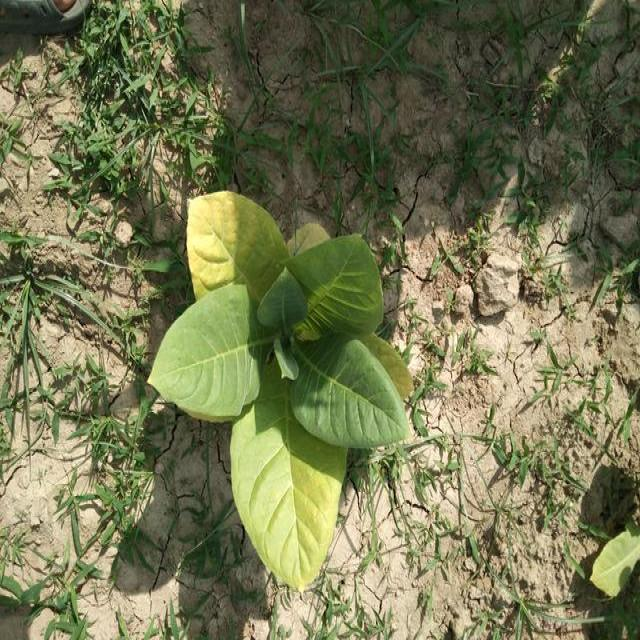crop: (144, 178, 414, 598)
